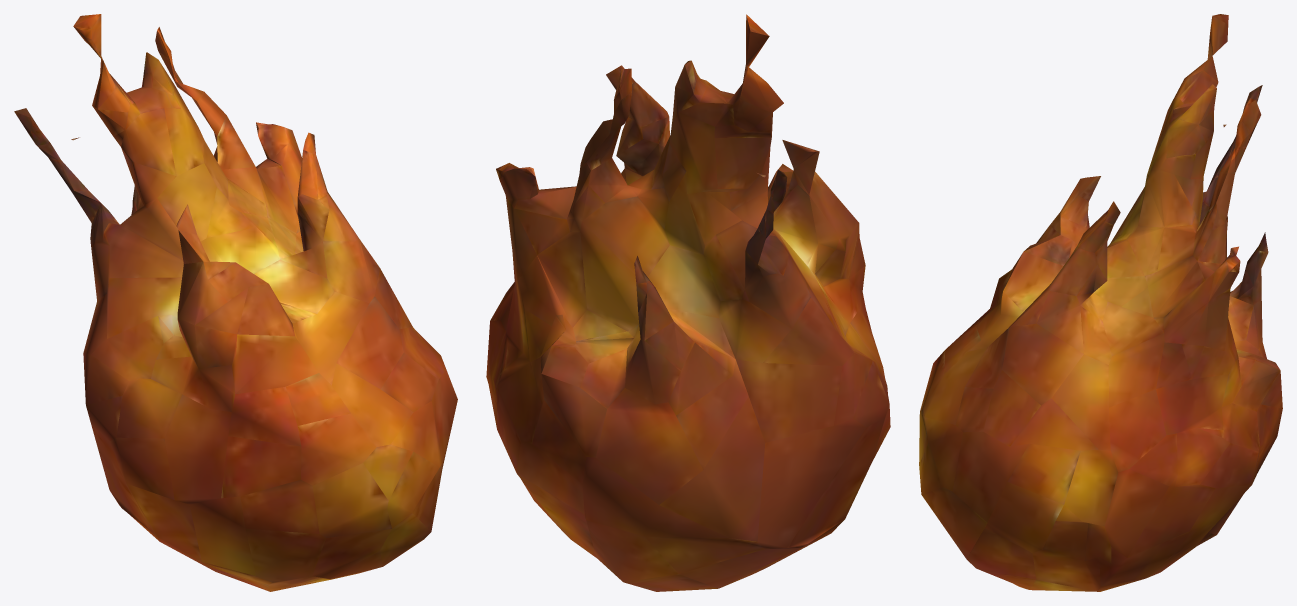
Rendered from proj_fire.glb.
3 renders of one model, left to right at view 1: azimuth 30°, elevation 25°; view 2: azimuth 150°, elevation 25°; view 3: azimuth 270°, elevation 25°, orthographic. The views are drawn at different scales.
Visible parts, largest first — view 1: Fireball; view 2: Fireball; view 3: Fireball.
Boxes of the visible parts, x1=… form: Fireball: x1=14, y1=14, x2=457, y2=591; Fireball: x1=486, y1=14, x2=890, y2=591; Fireball: x1=919, y1=14, x2=1282, y2=591.
Size of the model in its own units: 1.19 by 1.89 by 1.23.
1 material, 1 textured.
